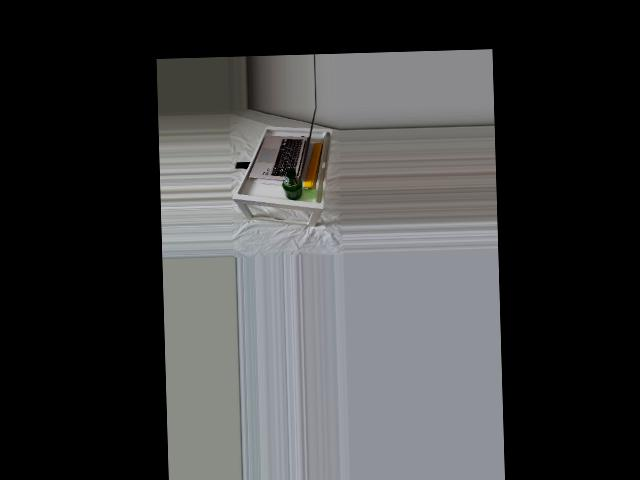beer: (282, 168, 302, 200)
